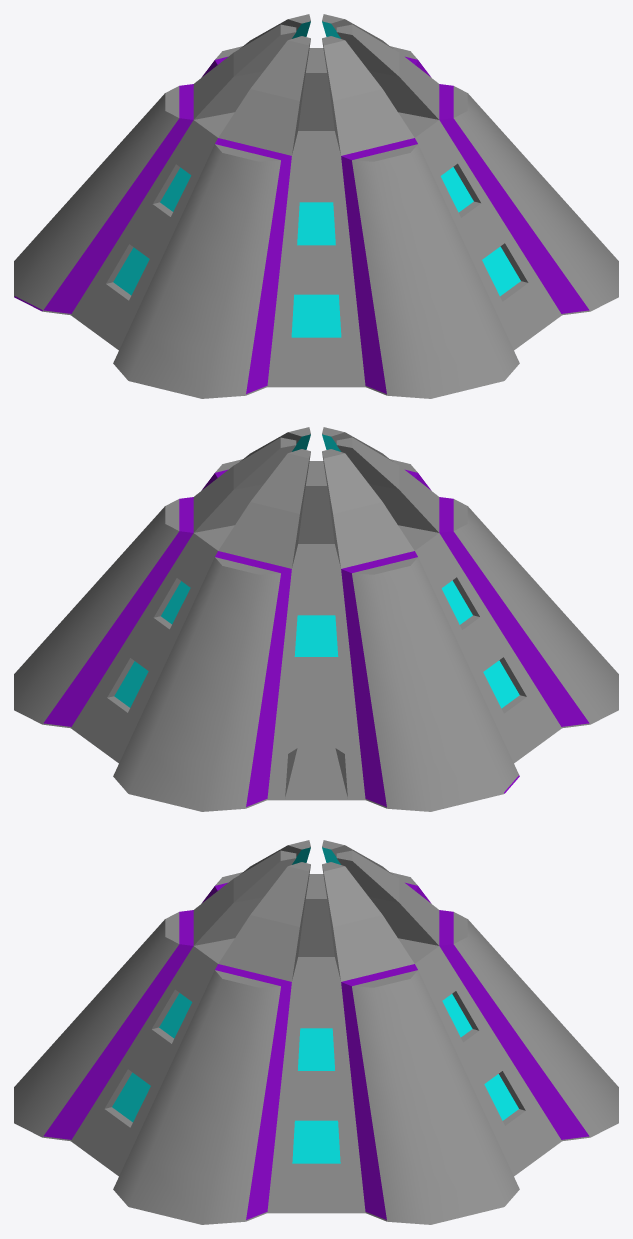
The model's file is StylBuilding2.fbx.
The picture shows the model from 3 angles, top to bottom: view 1: azimuth 30°, elevation 25°; view 2: azimuth 150°, elevation 25°; view 3: azimuth 270°, elevation 25°; orthographic projection.
Parts seen in each view (by area): view 1: pGear1; view 2: pGear1; view 3: pGear1.
Boxes of the visible parts, x1,y1,x2,y2 form: pGear1: (14, 14, 618, 398); pGear1: (14, 427, 618, 811); pGear1: (14, 840, 618, 1224).
Bounding box in the file's own units: 135 × 65.61 × 144.
